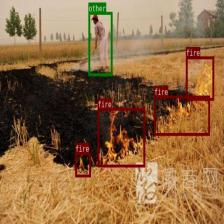fire: (97, 108, 144, 167), (154, 95, 210, 135), (185, 56, 214, 100), (75, 152, 90, 176)
